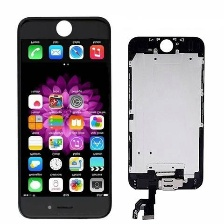phone: (14, 13, 114, 221), (124, 32, 206, 192)
